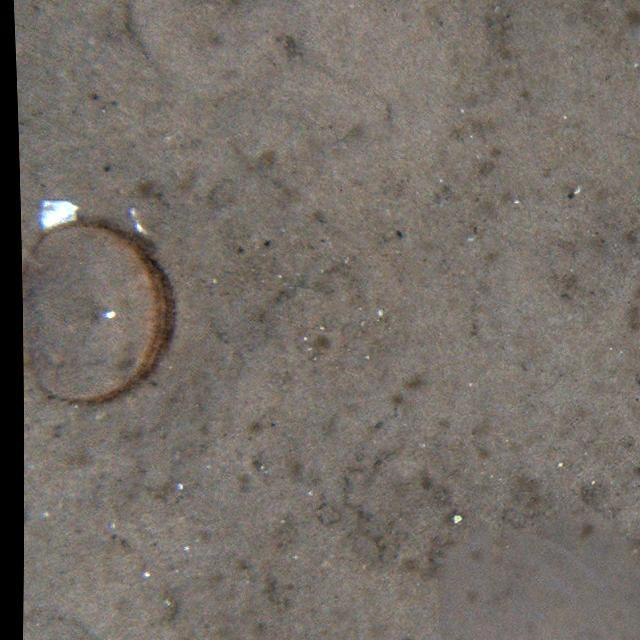scallop: (26, 221, 179, 407)
